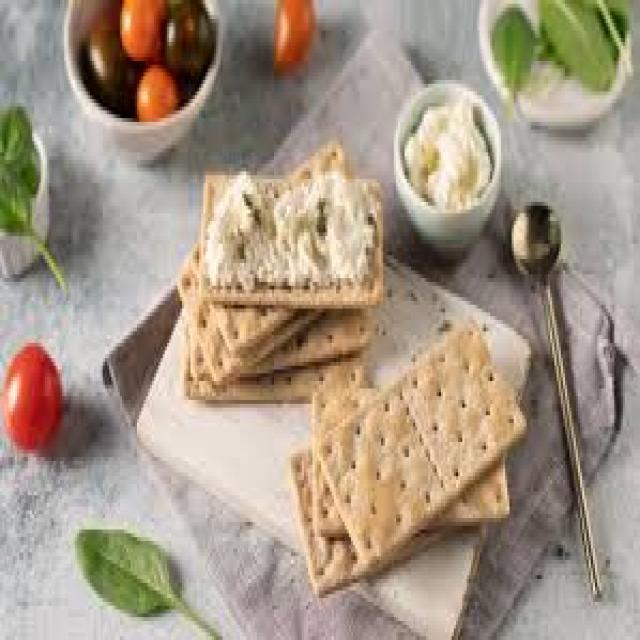Cracker: (319, 332, 533, 538), (199, 164, 391, 309)
